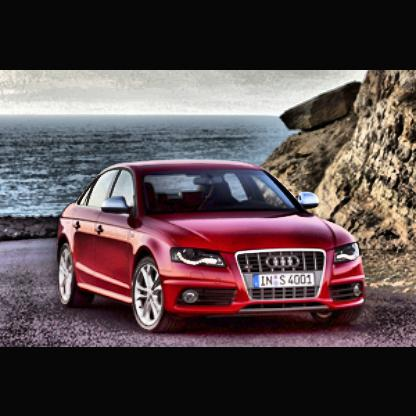Audi S4 Sedan 2012: (59, 159, 371, 340)
